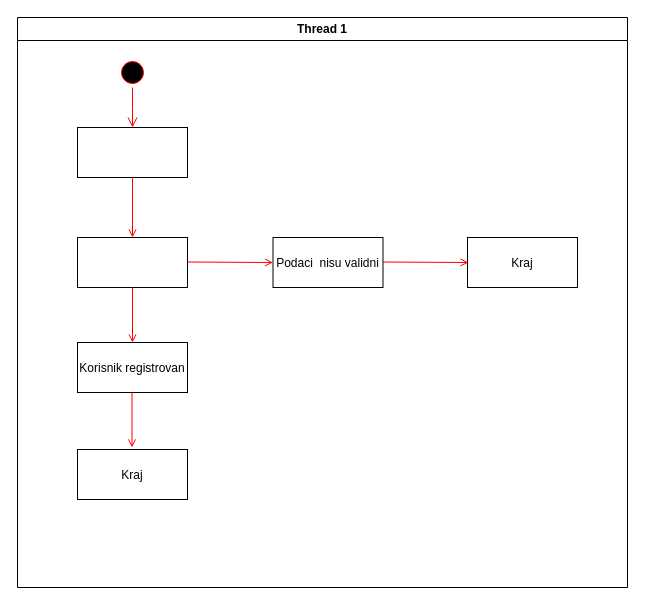
This 645x605 diagram has some shape labels left out. Each missing label, with the centre of its shape:
Provera validnosti: the point at 132,262
Unos podataka: the point at 132,152
